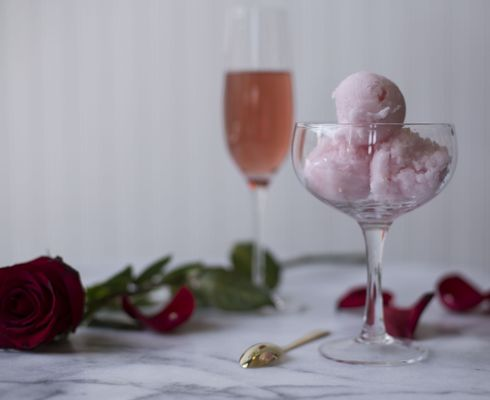sandwich: (290, 120, 459, 367), (216, 68, 297, 314)
